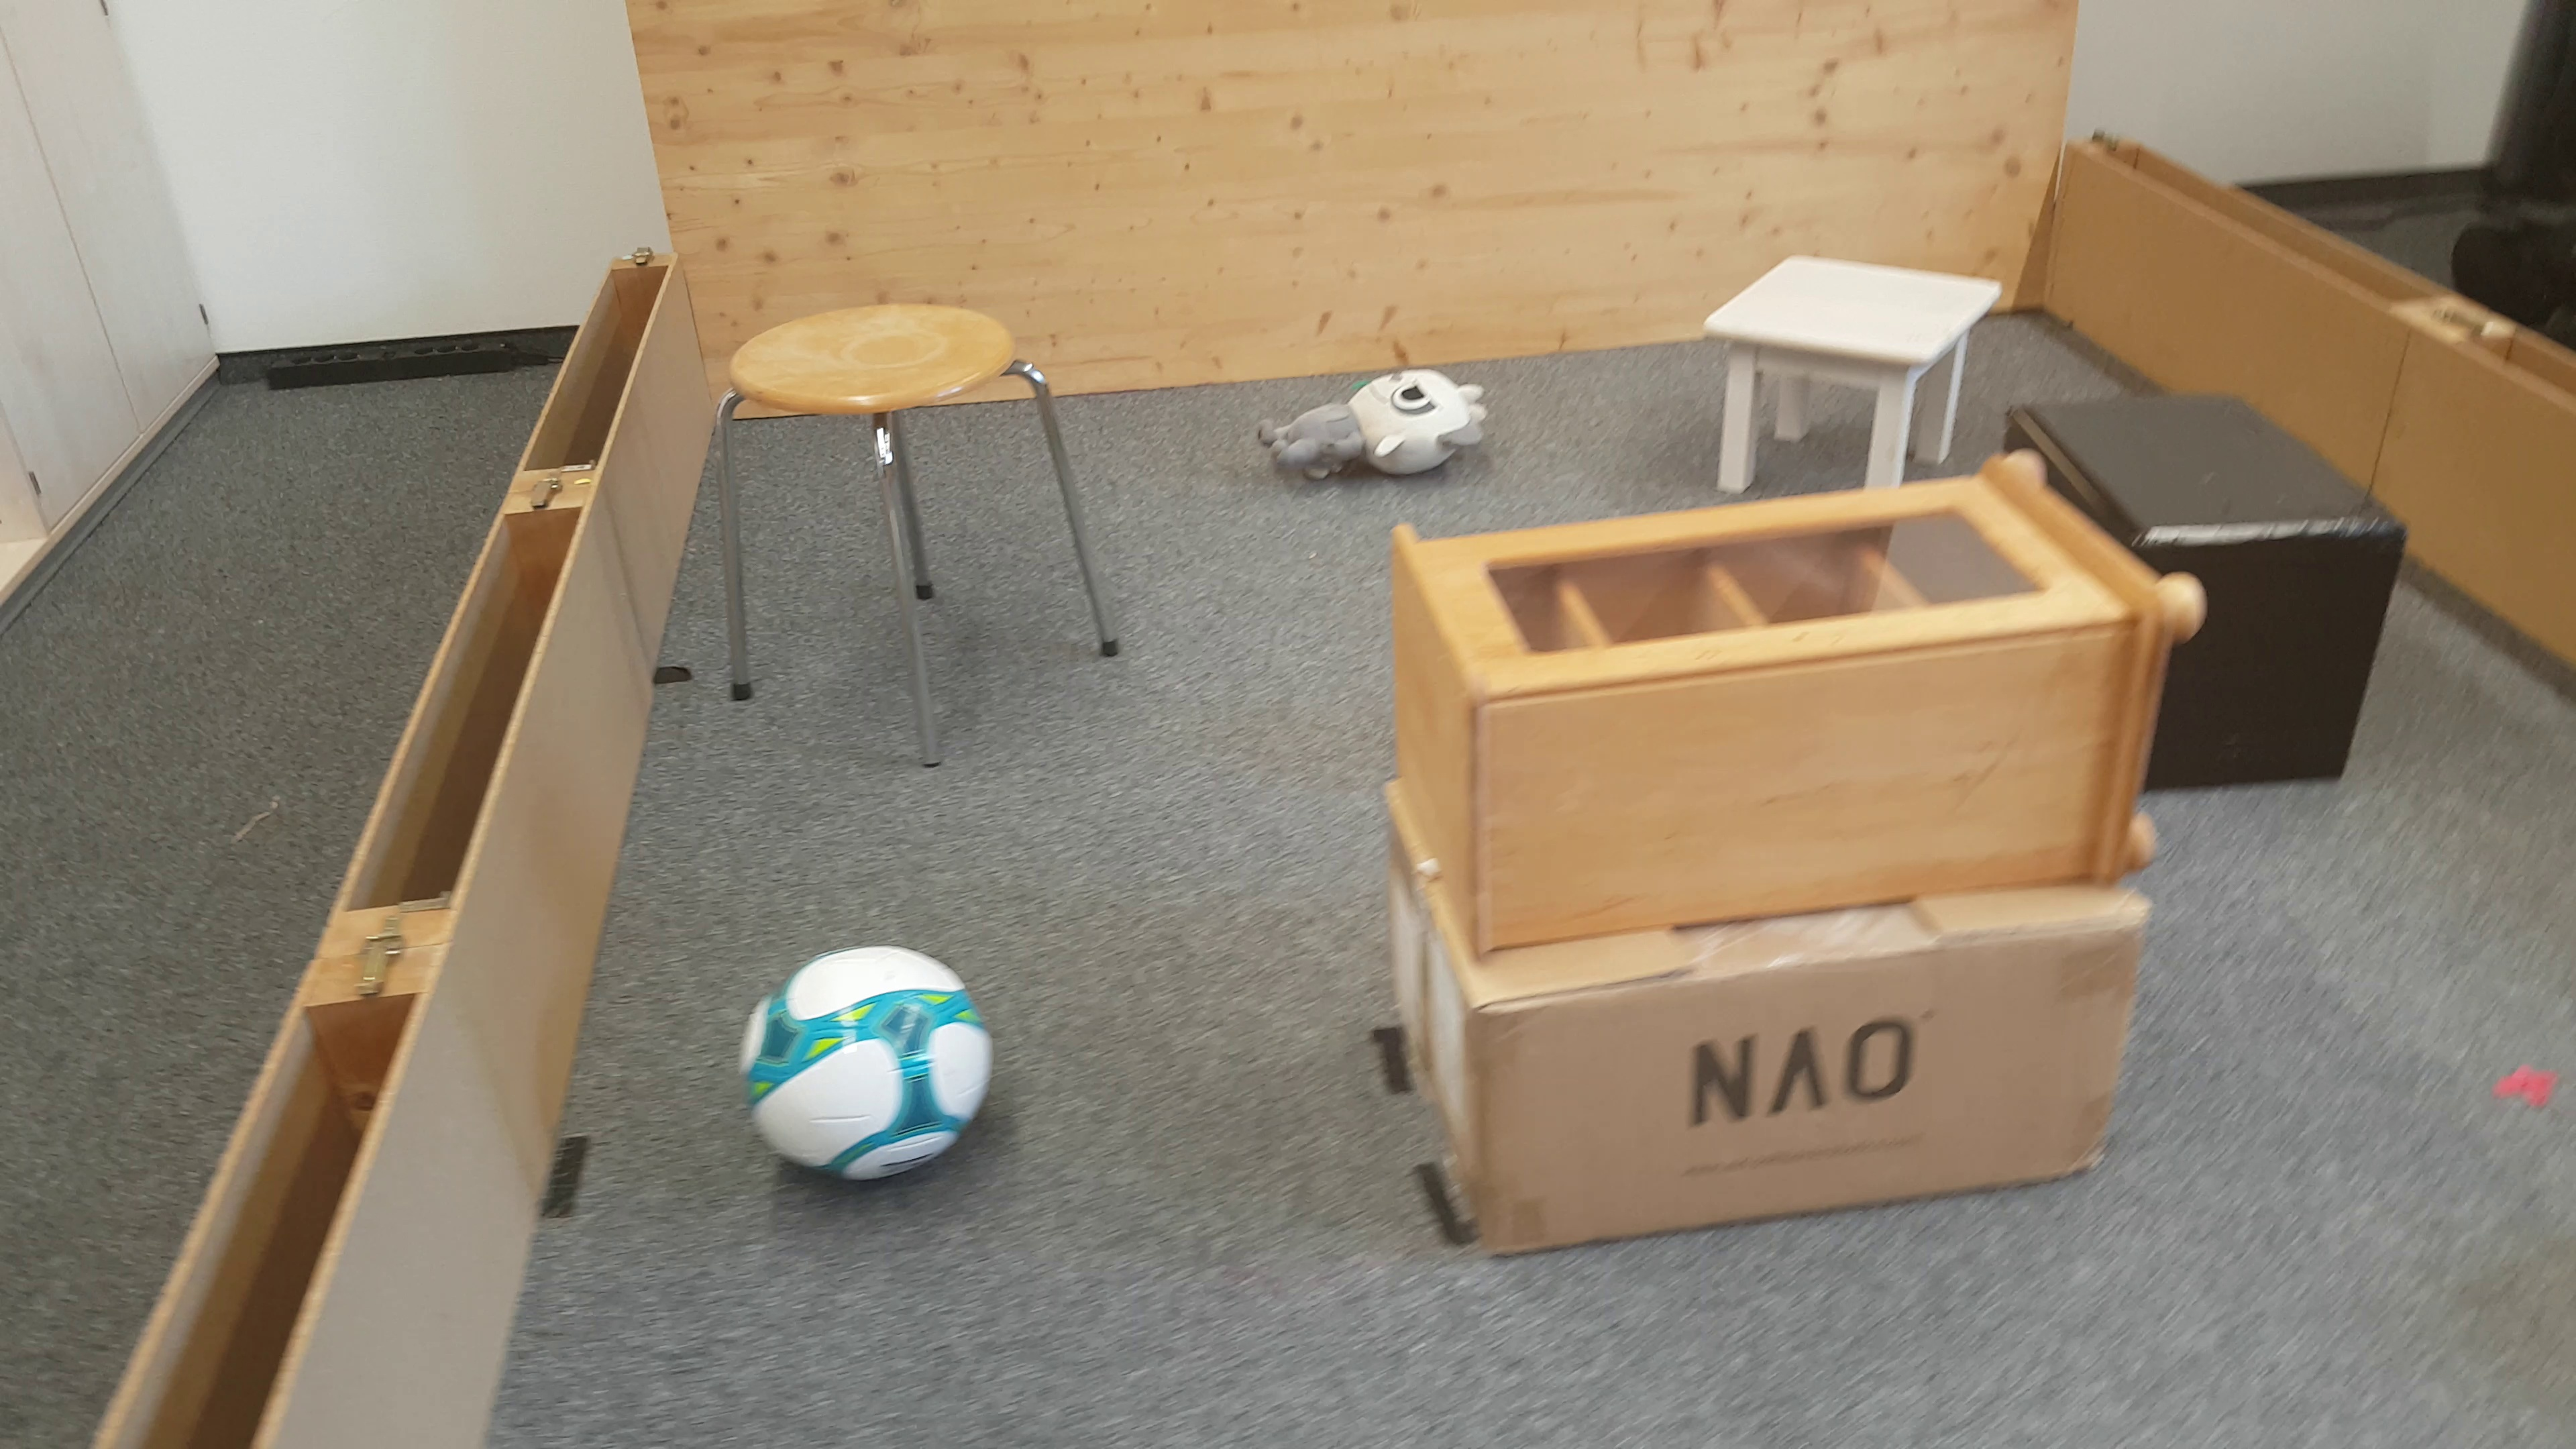grasp: (1254, 370, 1495, 487)
kick: (740, 945, 996, 1182)
push: (2206, 405, 2408, 796)
